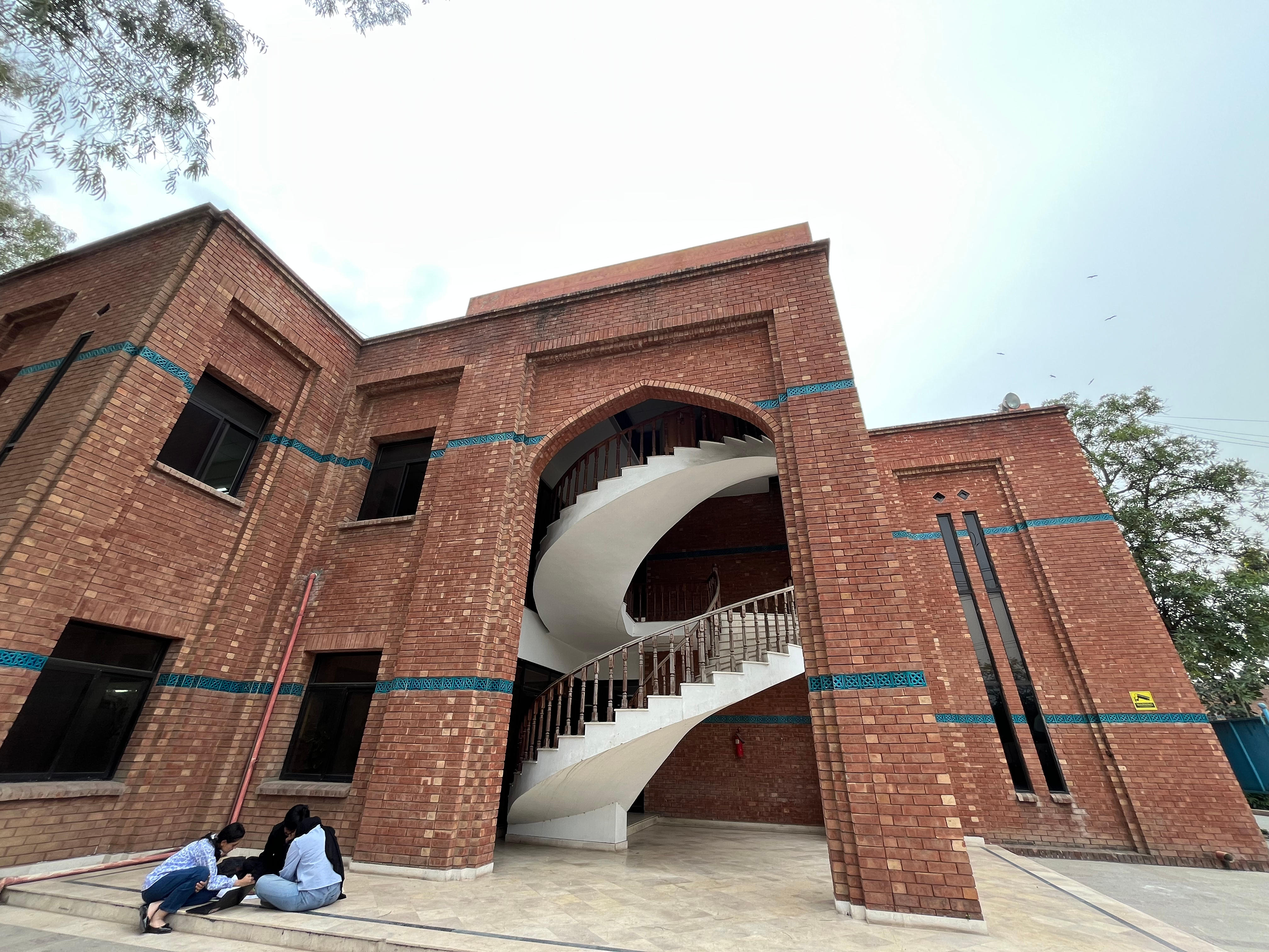Block A: (3, 215, 1269, 930)
